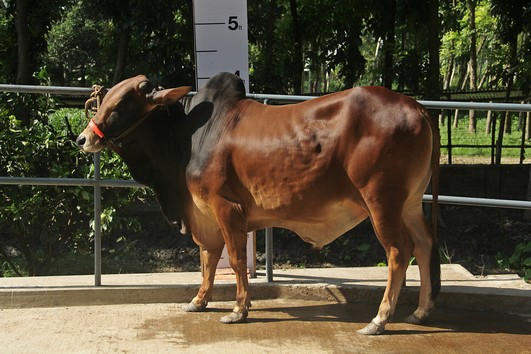cow: (74, 65, 453, 337)
